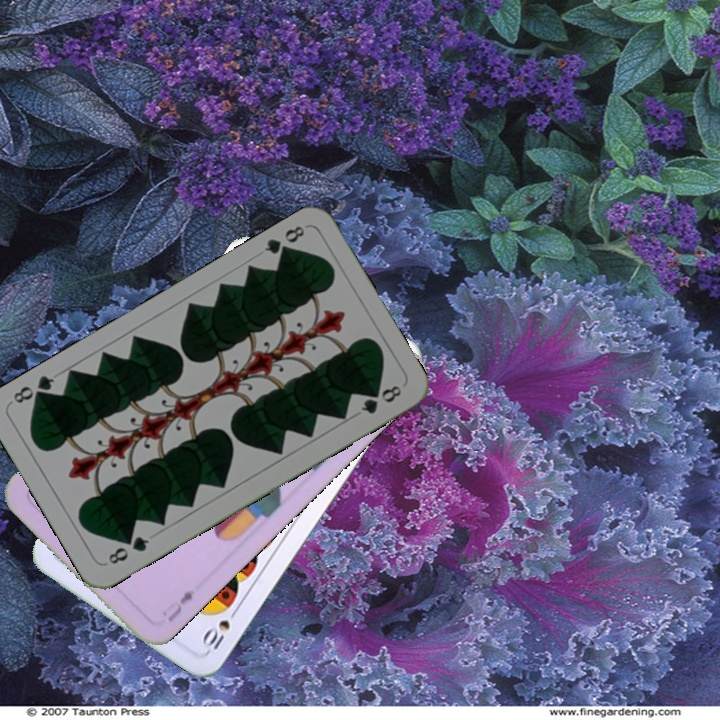EU: (160, 585, 198, 625)
G8: (260, 221, 307, 261), (104, 532, 152, 567)
S10: (198, 603, 242, 655)
